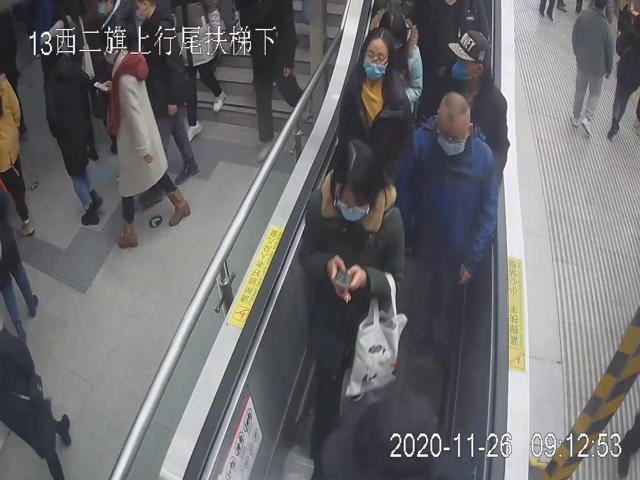person: (296, 134, 406, 459), (391, 91, 499, 359), (93, 28, 191, 250), (421, 30, 511, 176), (337, 28, 414, 173)
